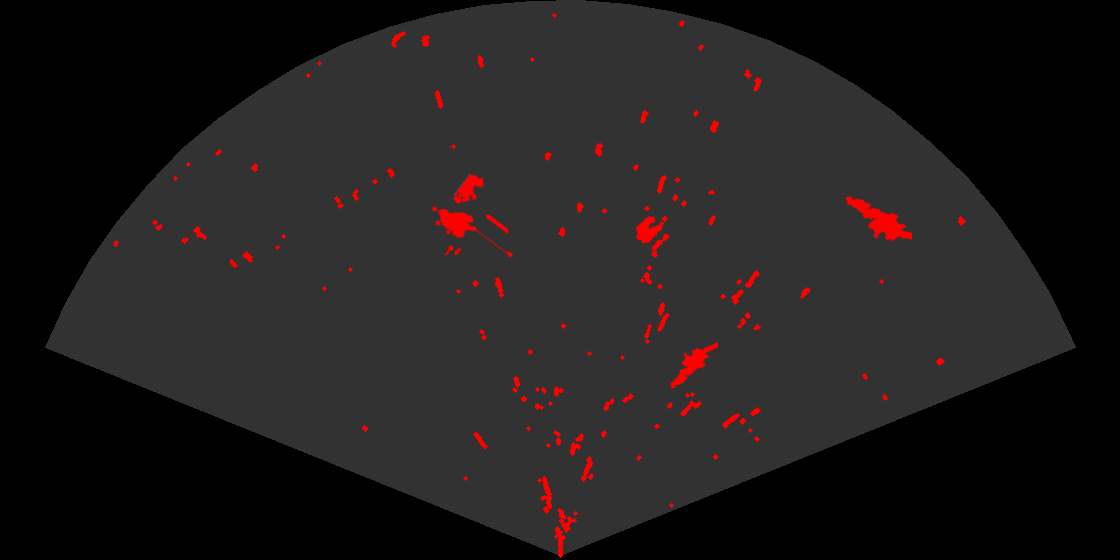ball: (634, 215, 671, 252)
cage: (430, 172, 508, 255)
frogman: (844, 195, 912, 243), (668, 341, 718, 390)
